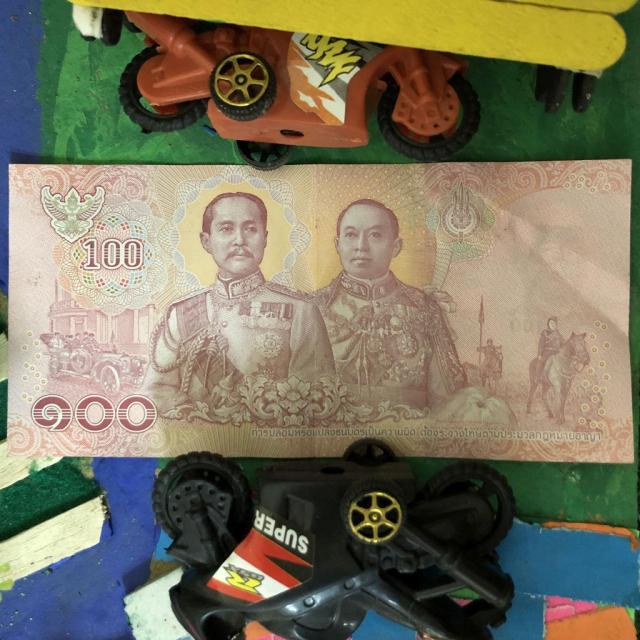THAI100: (8, 160, 633, 463)
